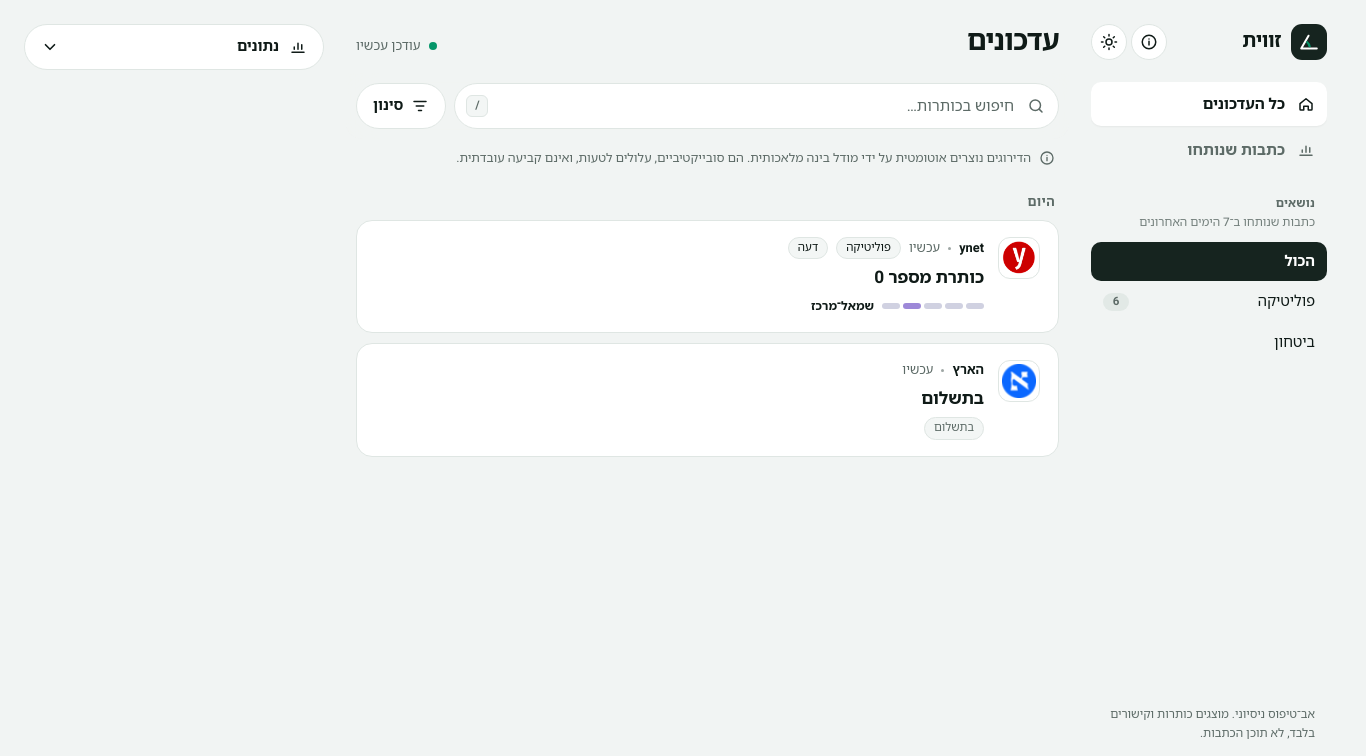
Test: feed › reveals the stats panel only on demand
Expected: the text "כותרת מספר 0" is shown, [874, 266, 984, 290]
Expected: the text "במספרים" is not shown
Step 1. Click the button "נתונים" → x=258, y=47, box [24, 24, 324, 70]
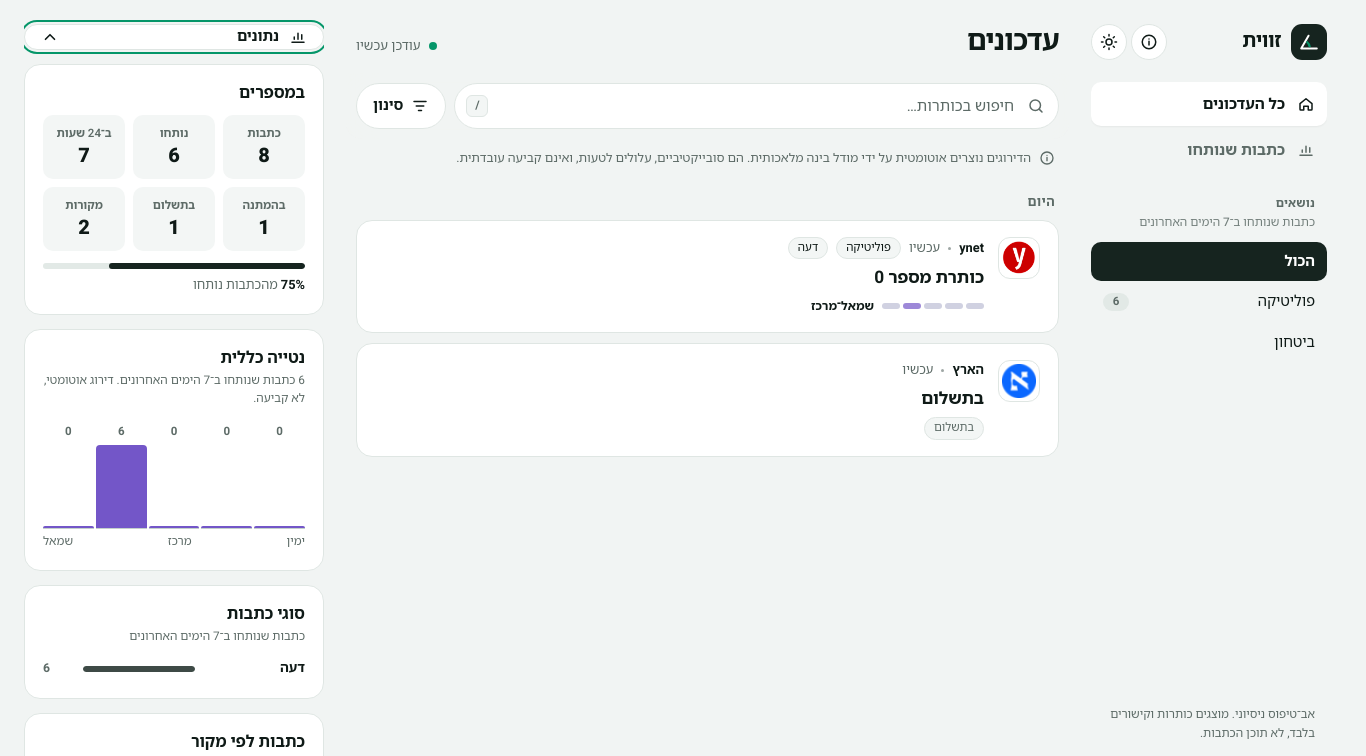
Expected: the heading "במספרים" is shown, [239, 80, 305, 104]
Expected: the text "75%" is shown, [281, 276, 305, 294]
Expected: the list item titled "שמאל־מרכז: 6" is shown, [96, 419, 147, 529]
